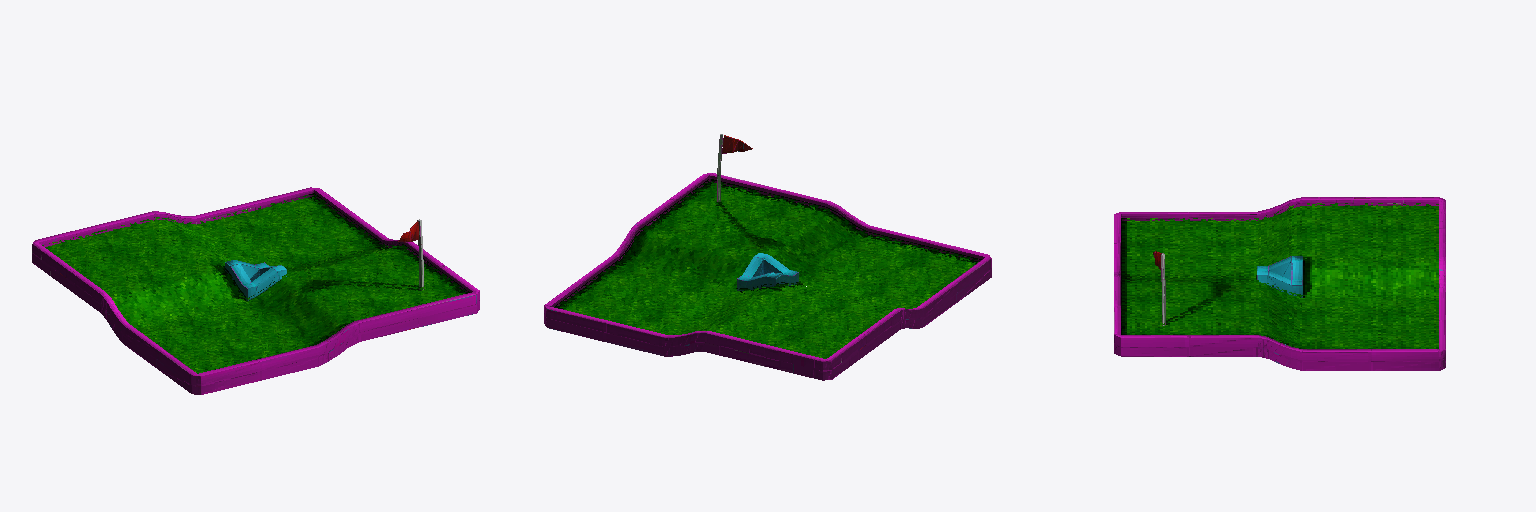
The picture shows the model from 3 angles: view 1: azimuth 30°, elevation 25°; view 2: azimuth 150°, elevation 25°; view 3: azimuth 270°, elevation 25°; orthographic projection.
Parts seen in each view (by area): view 1: Mesh_Mesh.001_Mesh.001_Mesh.004_Mesh.005_Mesh_Mesh.001_Mate.000; view 2: Mesh_Mesh.001_Mesh.001_Mesh.004_Mesh.005_Mesh_Mesh.001_Mate.000; view 3: Mesh_Mesh.001_Mesh.001_Mesh.004_Mesh.005_Mesh_Mesh.001_Mate.000.
Part boxes in pixels (x1,y1,x2,y2): Mesh_Mesh.001_Mesh.001_Mesh.004_Mesh.005_Mesh_Mesh.001_Mate.000: (32, 187, 479, 394); Mesh_Mesh.001_Mesh.001_Mesh.004_Mesh.005_Mesh_Mesh.001_Mate.000: (544, 134, 991, 380); Mesh_Mesh.001_Mesh.001_Mesh.004_Mesh.005_Mesh_Mesh.001_Mate.000: (1114, 197, 1445, 370).
Size of the model in its own units: 14.72 by 5.2 by 14.72.
Materials: 1 (1 with a texture image).